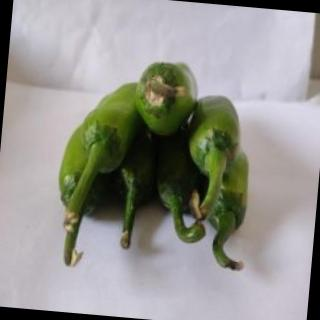Cabai Hijau: (184, 93, 248, 221), (129, 57, 204, 142)
